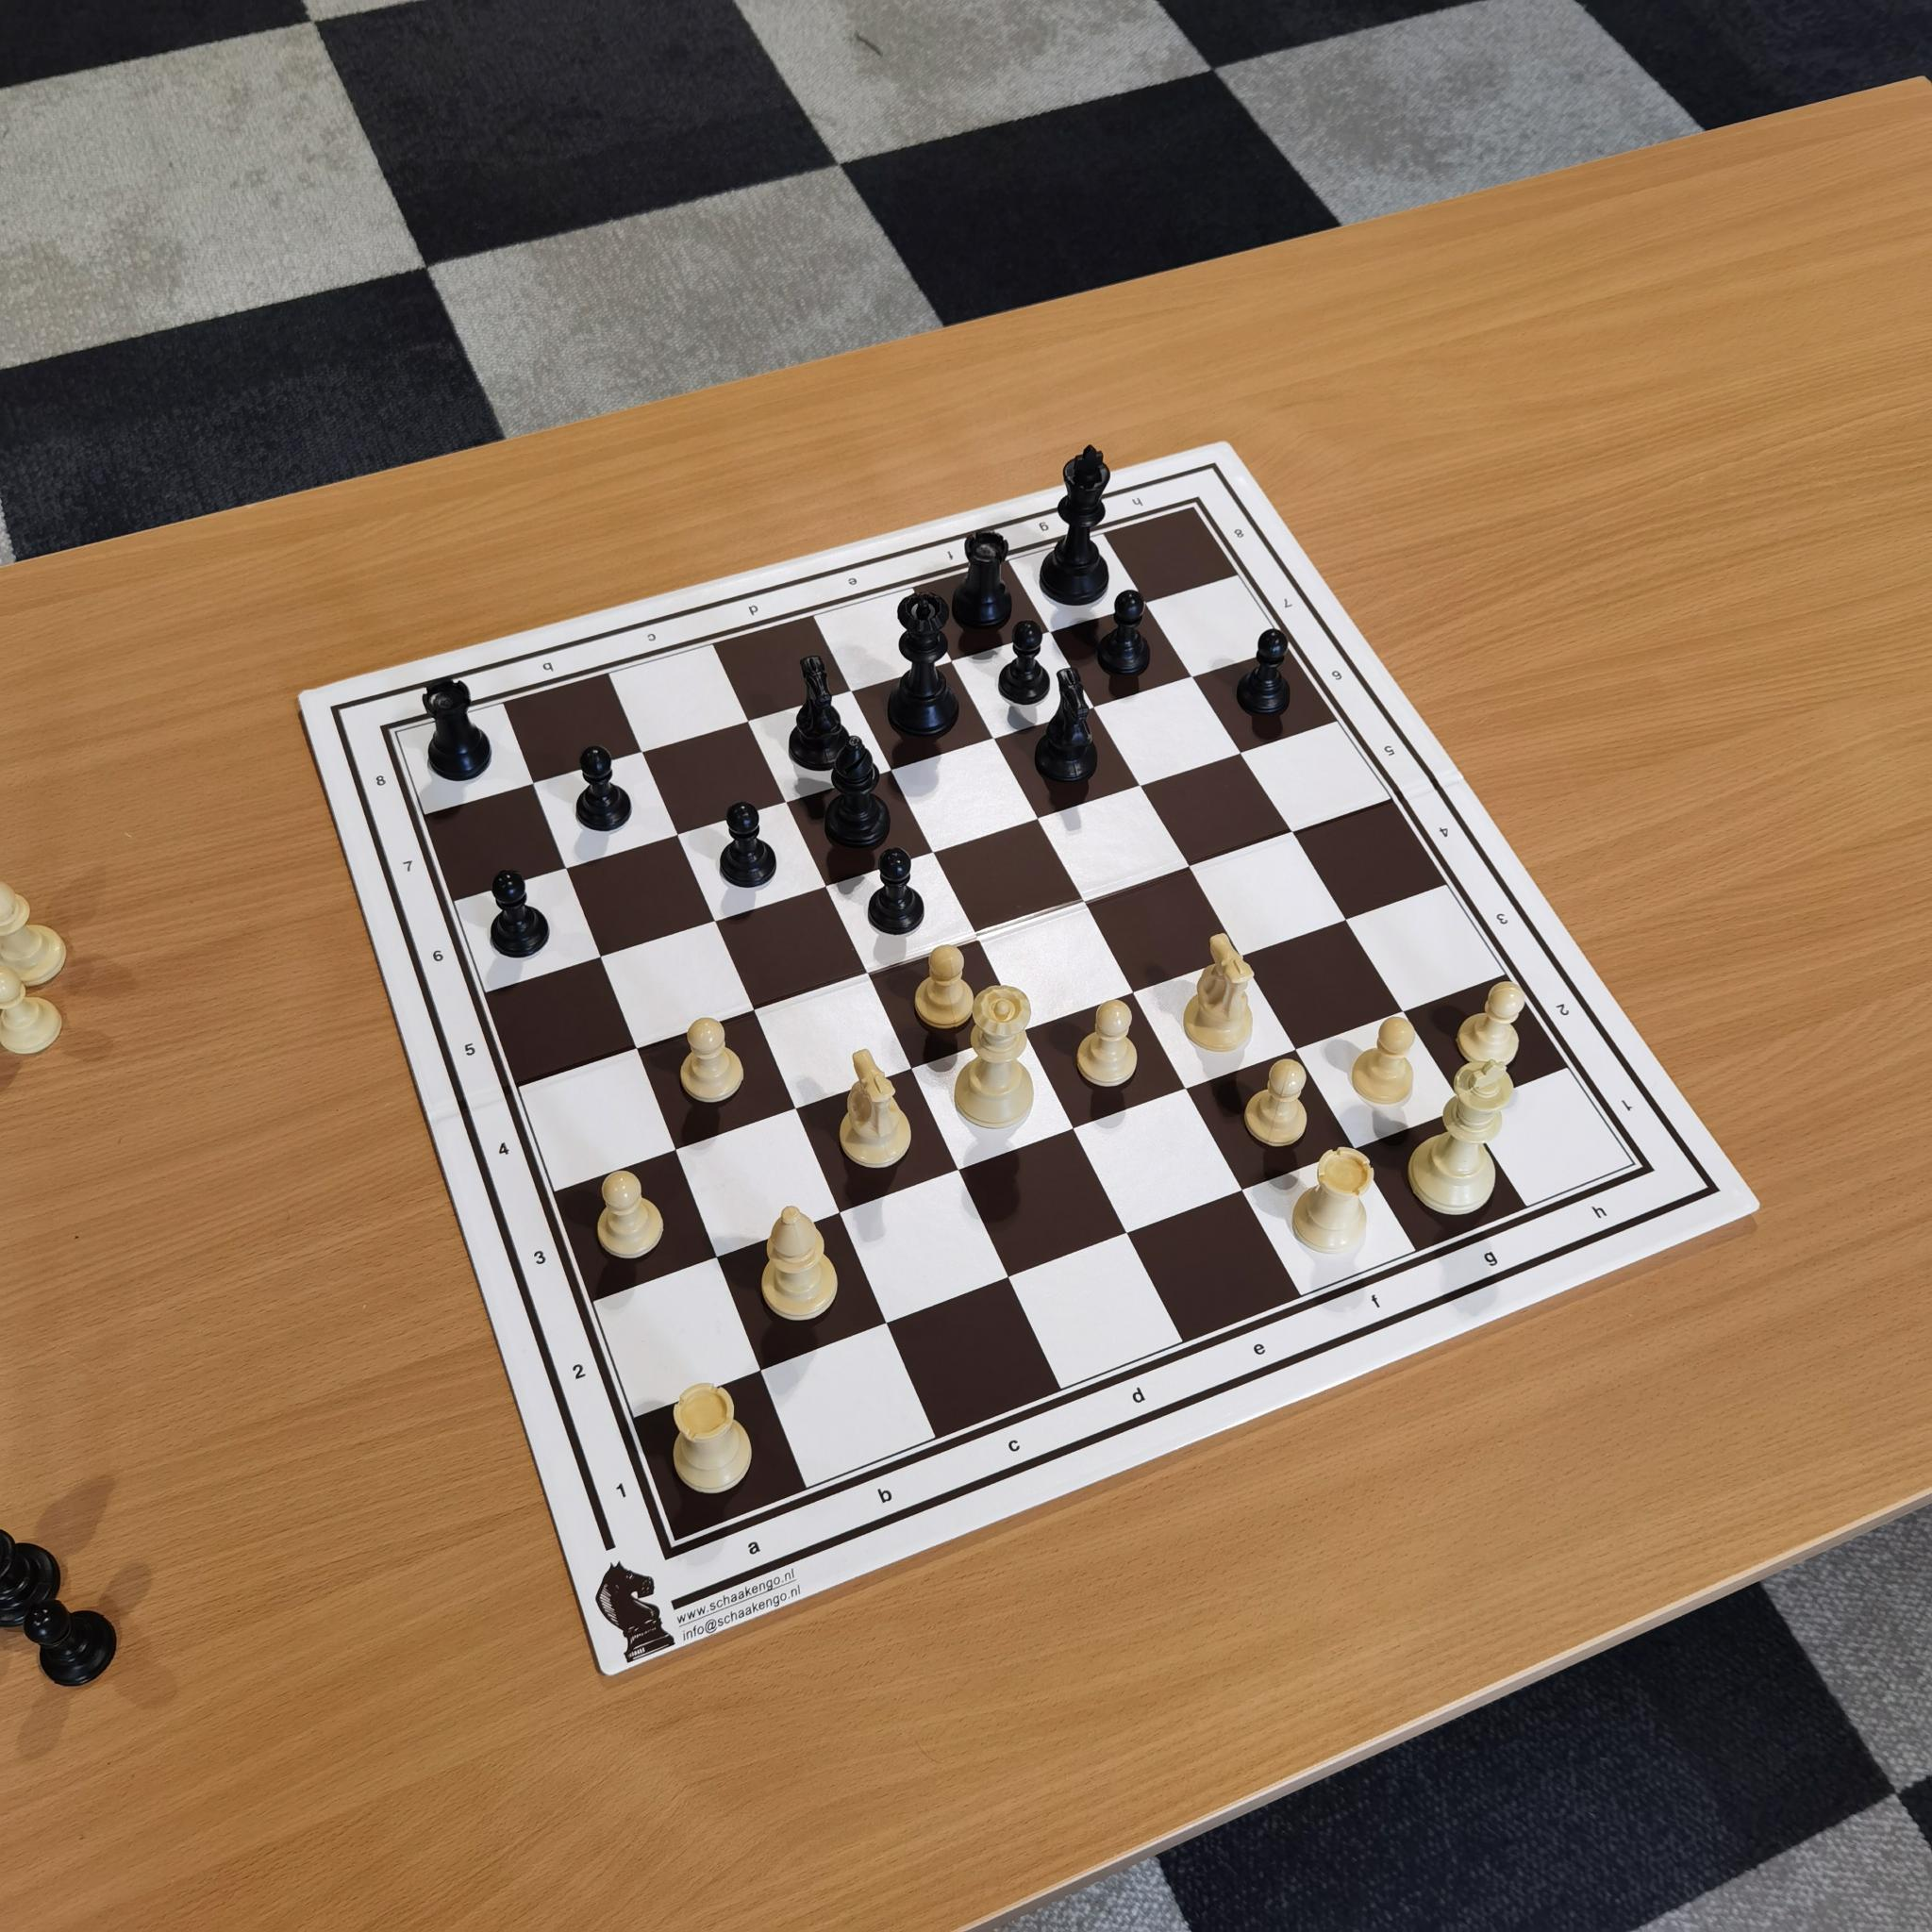corners: (643, 1522, 694, 1580), (1619, 1148, 1671, 1191), (371, 719, 422, 758), (1173, 491, 1218, 531)
eight: (371, 760, 396, 804), (1229, 521, 1256, 552)
one: (604, 1461, 649, 1522), (1608, 1085, 1647, 1124)
